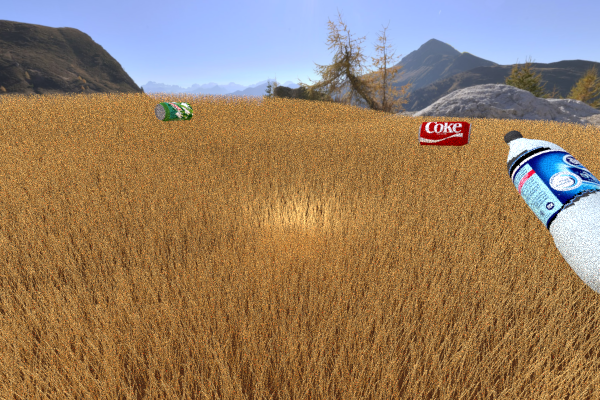Plastic Bottle: (503, 130, 600, 306), (418, 121, 471, 146), (154, 102, 193, 121)
